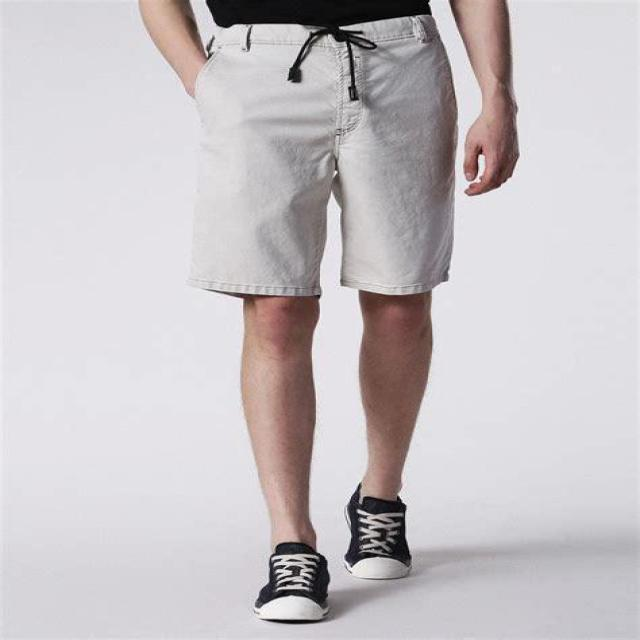short: (184, 14, 454, 298)
